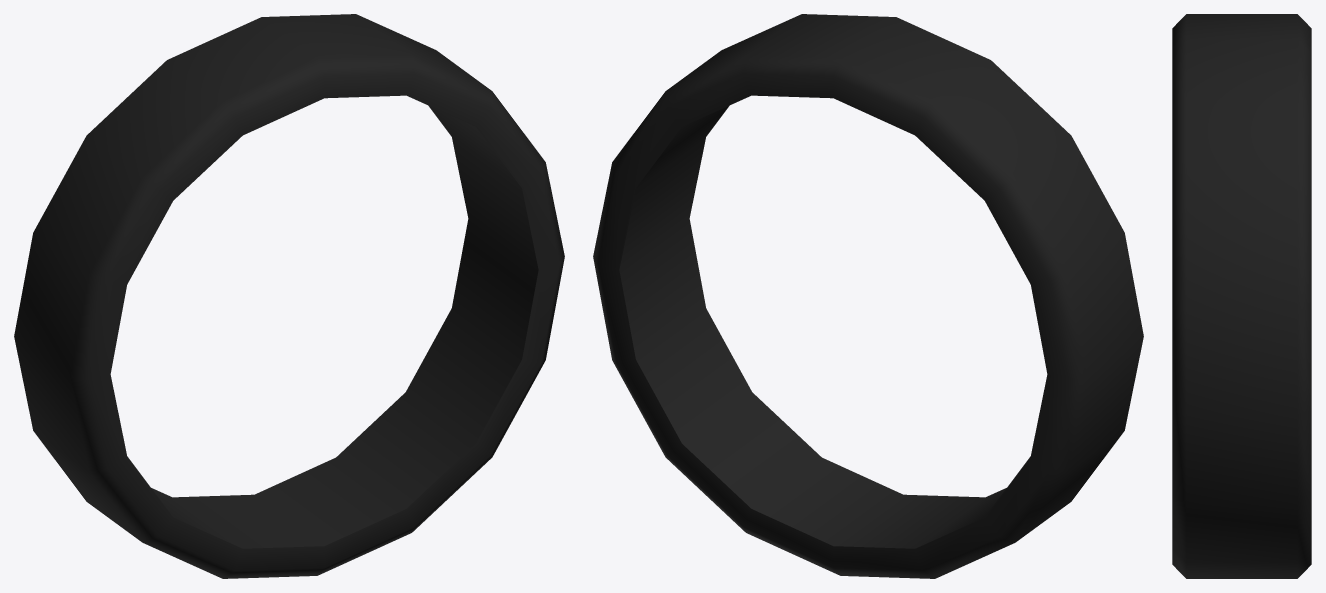
Rendered from pipeglassconnector_001.fbx.
3 views of the same model, side by side, from view 1: azimuth 30°, elevation 25°; view 2: azimuth 150°, elevation 25°; view 3: azimuth 270°, elevation 25° (orthographic).
Visible parts, largest first — view 1: pipeglassconnector_001; view 2: pipeglassconnector_001; view 3: pipeglassconnector_001.
Boxes of the visible parts, left/top/right/bottom form: pipeglassconnector_001: left=14, top=14, right=564, bottom=578; pipeglassconnector_001: left=593, top=14, right=1143, bottom=578; pipeglassconnector_001: left=1172, top=14, right=1311, bottom=578.
Size of the model in its own units: 444 by 109 by 444.
